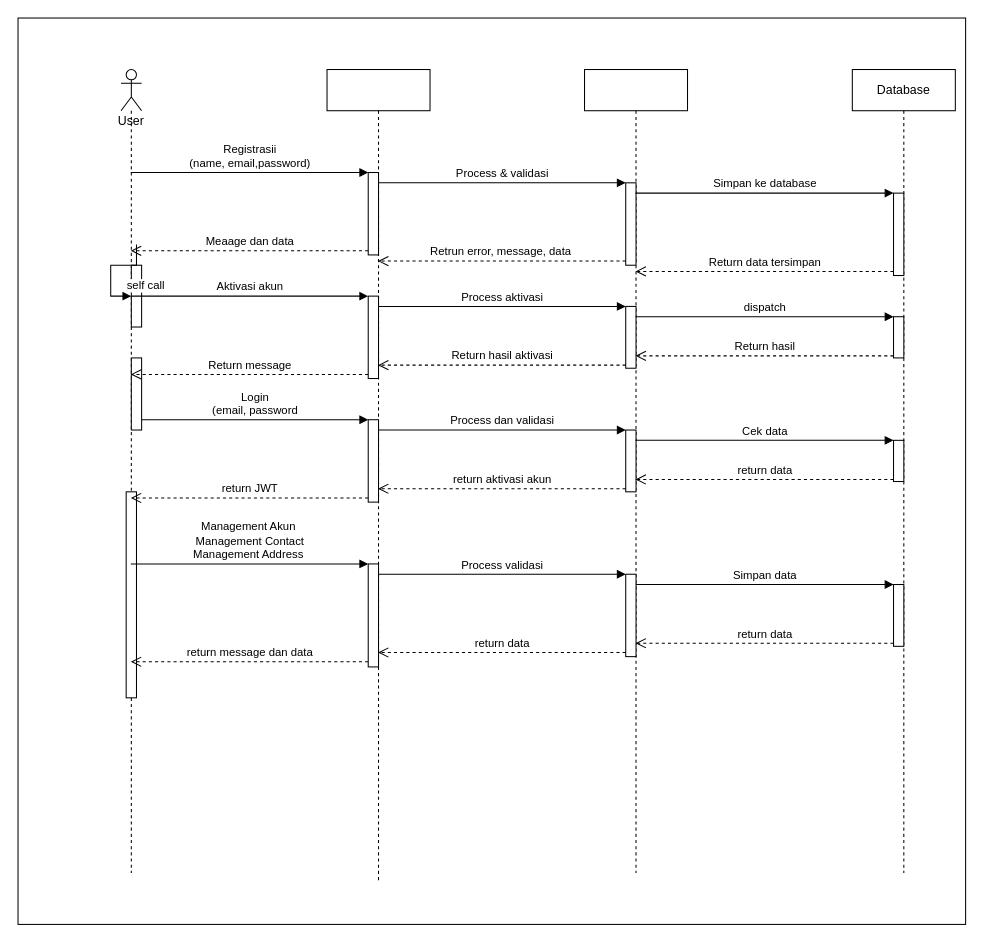
The diagram is 984 pixels wide and 942 high, and some of its shapes have lost their labels. Each missing label, with the centre of its shape:
"API" goes at pixel 378 475.
"Controller" goes at pixel 635 470.
